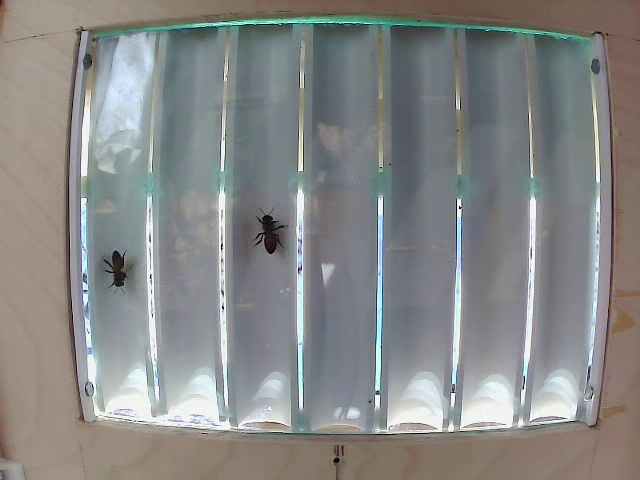bee: (253, 210, 295, 262), (100, 239, 137, 293)
